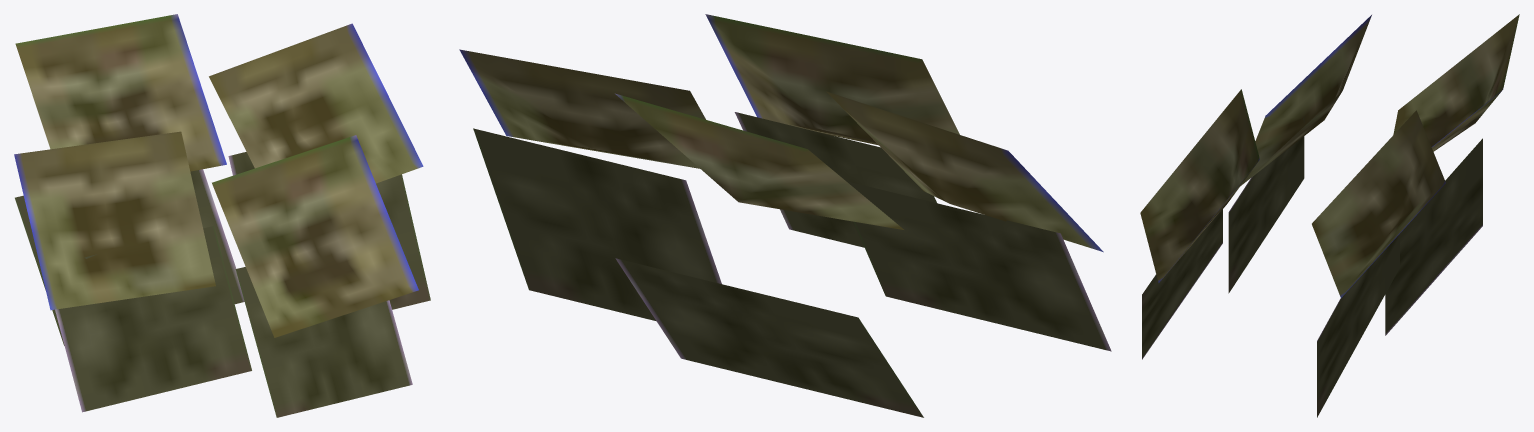
Rendered from flw_pansy_x.dae.
The picture shows the model from 3 angles, left to right: view 1: azimuth 30°, elevation 25°; view 2: azimuth 150°, elevation 25°; view 3: azimuth 270°, elevation 25°; orthographic projection. The views are drawn at different scales.
Parts seen in each view (by area): view 1: flw_pansy_x; view 2: flw_pansy_x; view 3: flw_pansy_x.
Part boxes in pixels (x1,y1,x2,y2): flw_pansy_x: (14,14,430,417); flw_pansy_x: (459,14,1111,417); flw_pansy_x: (1140,14,1519,417).
Size of the model in its own units: 32.39 by 19.38 by 26.27.
Materials: 1 (1 with a texture image).
